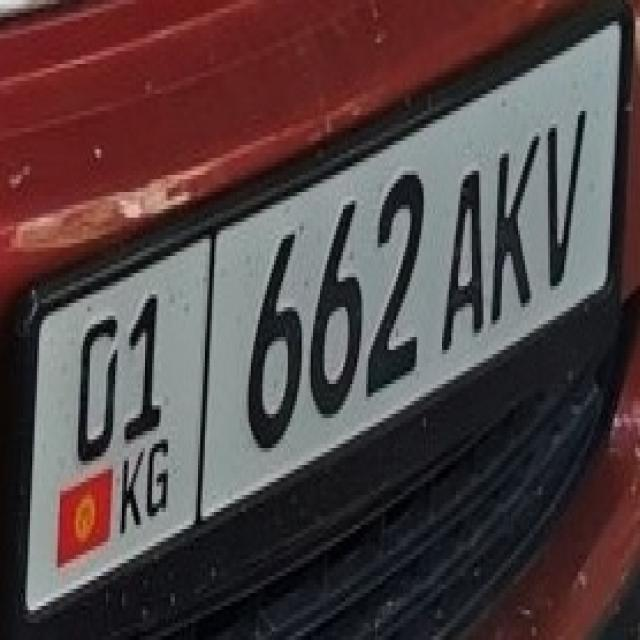0: (65, 298, 126, 466)
1: (112, 277, 172, 444)
2: (361, 154, 433, 396)
6: (235, 209, 311, 448), (304, 179, 371, 418)
A: (430, 154, 495, 346)
K: (481, 124, 543, 320)
V: (530, 98, 592, 290)
